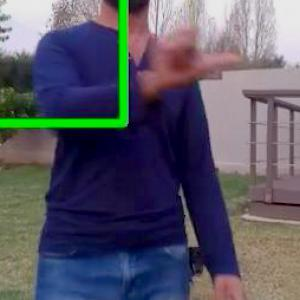land_hand: (122, 0, 252, 101)
